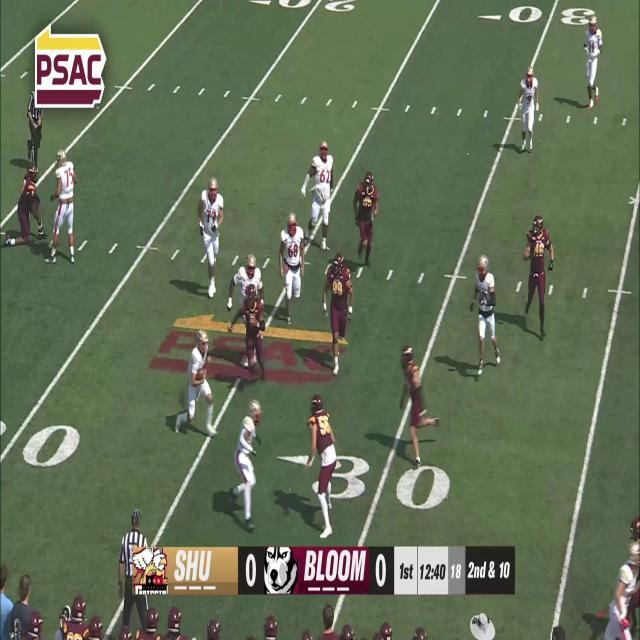football: (194, 366, 206, 383)
